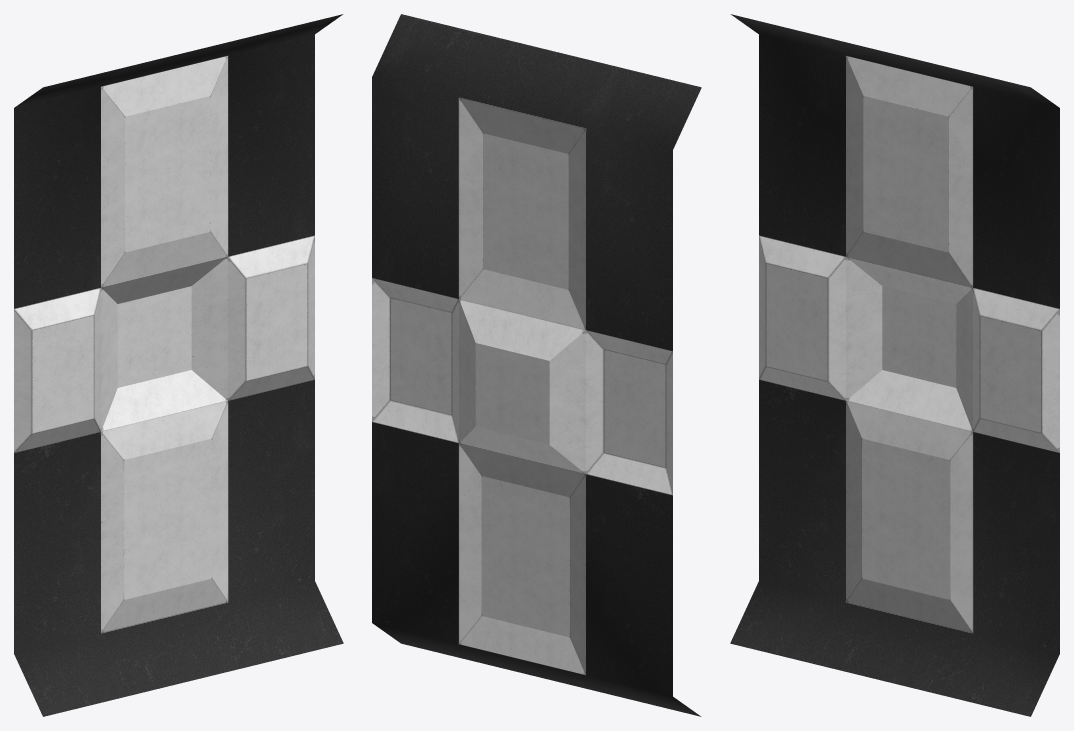
The model's file is p_CorridorWall_2x4_Hole.fbx.
The picture shows the model from 3 angles, left to right: view 1: azimuth 30°, elevation 25°; view 2: azimuth 150°, elevation 25°; view 3: azimuth 330°, elevation 25°; orthographic projection.
Parts seen in each view (by area): view 1: CorridorWall_2x4_Hole; view 2: CorridorWall_2x4_Hole; view 3: CorridorWall_2x4_Hole.
Part boxes in pixels (<box>): CorridorWall_2x4_Hole: <box>14,14,343,716</box>; CorridorWall_2x4_Hole: <box>372,14,701,716</box>; CorridorWall_2x4_Hole: <box>730,14,1059,716</box>.
Size of the model in its own units: 200 by 400 by 44.69.
